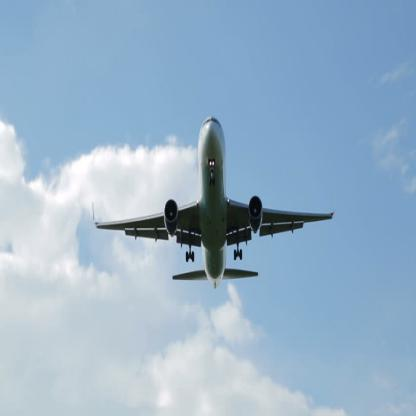CIV_Plane: (87, 110, 334, 286)
